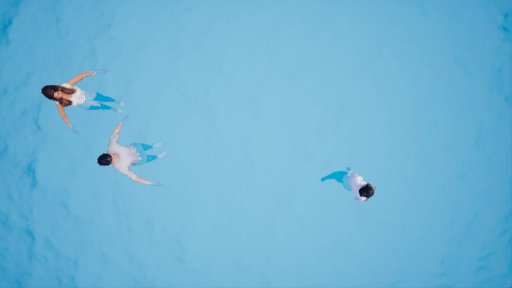person: (99, 127, 178, 192), (44, 66, 127, 123), (314, 159, 388, 214)
